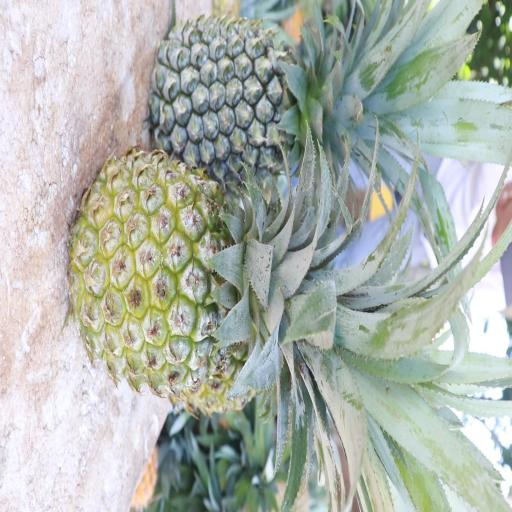------------------------------: (58, 135, 353, 388)
